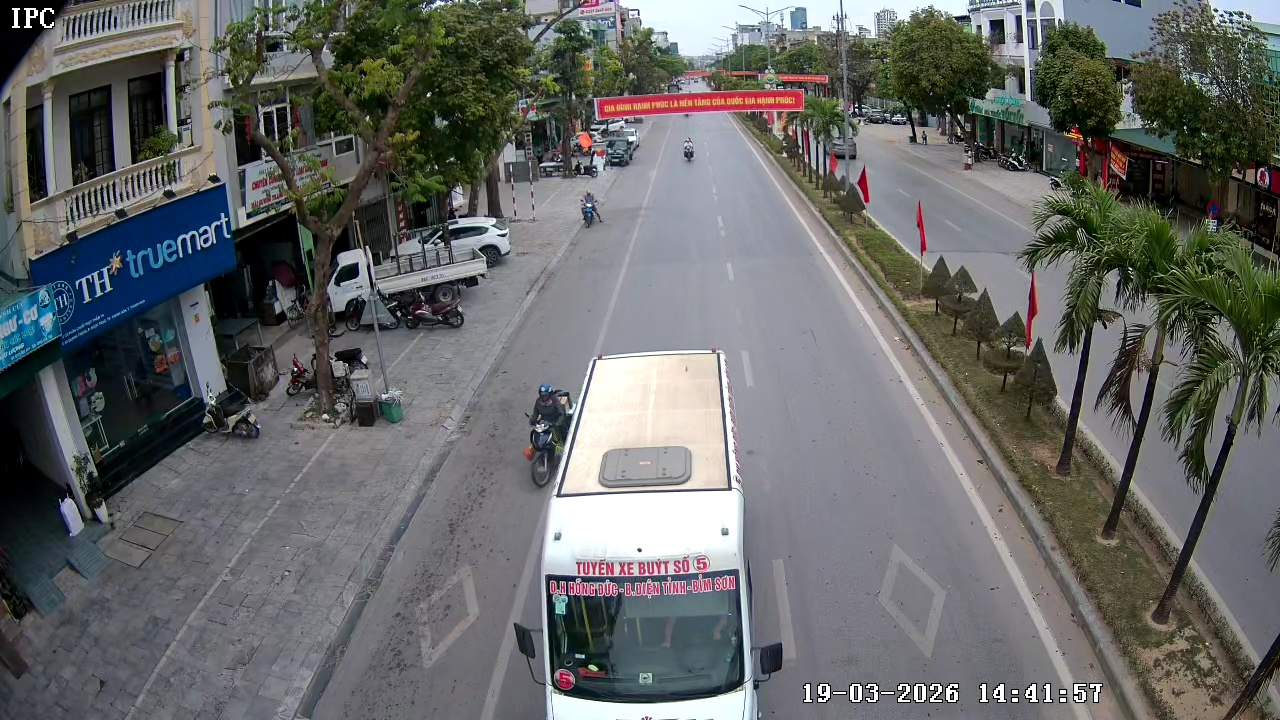bus: (511, 346, 787, 719)
motorbike: (521, 381, 574, 490), (578, 189, 603, 229), (681, 135, 697, 164)
